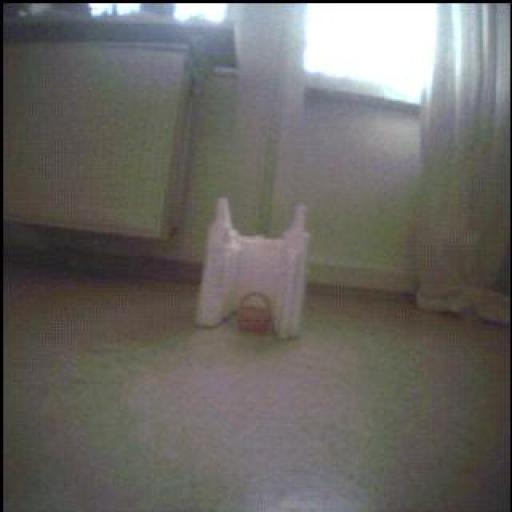Basket: (239, 293, 273, 336)
